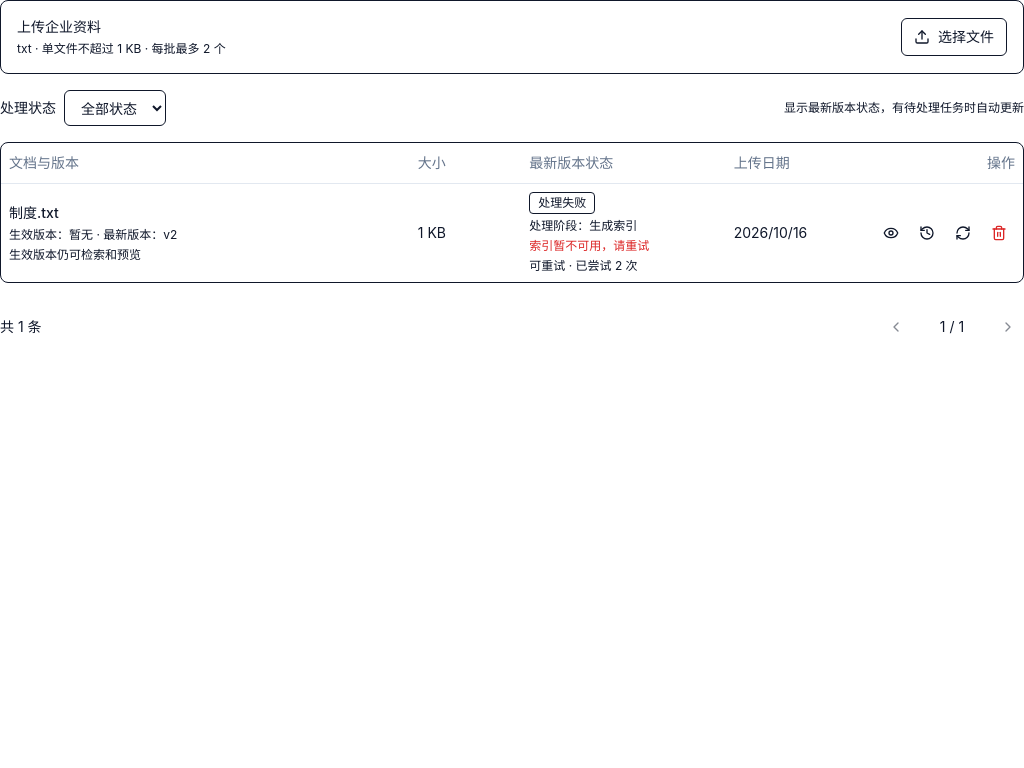
document versions › preserves searchable legacy previews with null version IDs and unknown chunk totals
Click the button named "预览 制度.txt" at x=891, y=232, box [875,216,907,248]
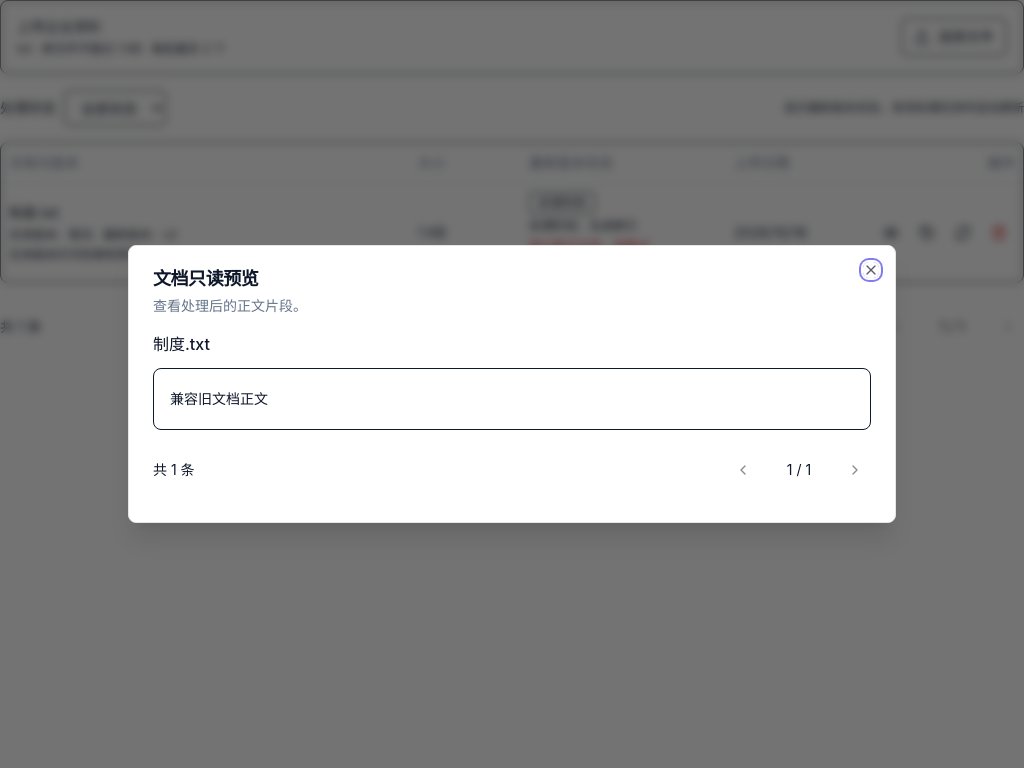
Expected: the text "兼容旧文档正文" is shown, [153,368,871,430]
